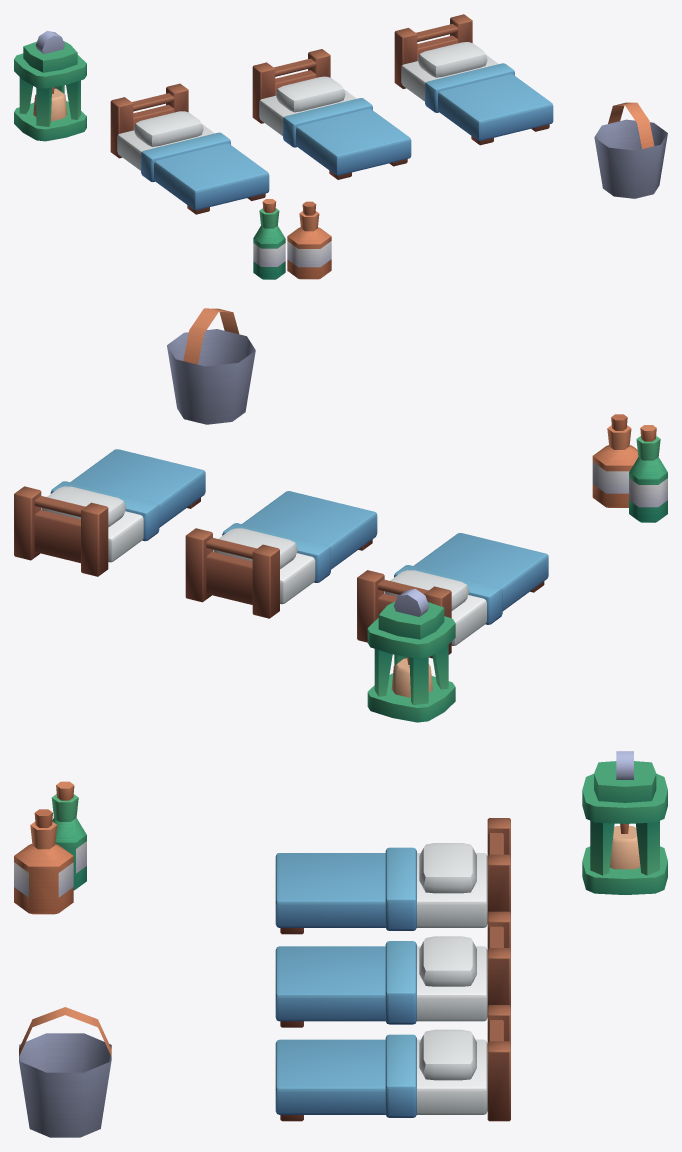
Rendered from bld_infirmary_2x2.glb.
3 renders of one model, top to bottom at view 1: azimuth 30°, elevation 25°; view 2: azimuth 150°, elevation 25°; view 3: azimuth 270°, elevation 25°, orthographic. The views are drawn at different scales.
Visible parts, largest first — view 1: bed_single_A2, bed_single_A3, bed_single_A, lantern-candle, bucket, bottle-large, bottle; view 2: bed_single_A2, bed_single_A3, bed_single_A, lantern-candle, bucket, bottle, bottle-large; view 3: bed_single_A3, bed_single_A2, bed_single_A, lantern-candle, bucket, bottle-large, bottle.
Boxes of the visible parts, left/top/right/bottom form: bed_single_A2: left=252, top=49, right=411, bottom=179; bed_single_A3: left=394, top=14, right=553, bottom=145; bed_single_A: left=110, top=83, right=269, bottom=214; lantern-candle: left=14, top=30, right=86, bottom=141; bucket: left=594, top=102, right=667, bottom=198; bottle-large: left=287, top=201, right=331, bottom=279; bottle: left=253, top=199, right=285, bottom=279; bed_single_A2: left=185, top=491, right=377, bottom=618; bed_single_A3: left=14, top=449, right=205, bottom=576; bed_single_A: left=357, top=533, right=548, bottom=658; lantern-candle: left=367, top=589, right=455, bottom=722; bucket: left=167, top=308, right=255, bottom=424; bottle: left=629, top=425, right=667, bottom=522; bottle-large: left=592, top=414, right=638, bottom=507; bed_single_A3: left=275, top=1005, right=510, bottom=1121; bed_single_A2: left=275, top=911, right=510, bottom=1027; bed_single_A: left=275, top=818, right=510, bottom=934; lantern-candle: left=582, top=751, right=667, bottom=894; bucket: left=19, top=1007, right=111, bottom=1137; bottle-large: left=14, top=809, right=73, bottom=914; bottle: left=51, top=781, right=86, bottom=890.
Bounding box in the file's own units: 1.88 × 0.3877 × 1.83.
5 materials, 5 textured.
